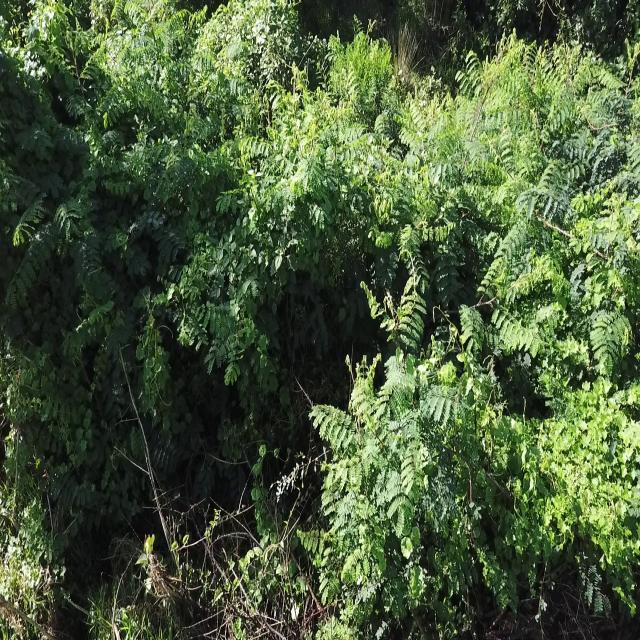Mysore-Thorn-Weed: (310, 267, 481, 618), (492, 35, 640, 301), (7, 174, 195, 304), (238, 90, 356, 267), (8, 2, 116, 153), (120, 0, 232, 138), (366, 88, 446, 270), (168, 257, 268, 373), (446, 40, 505, 214), (149, 430, 212, 488), (588, 310, 634, 379), (48, 473, 102, 529), (31, 392, 77, 448), (102, 312, 140, 358)
